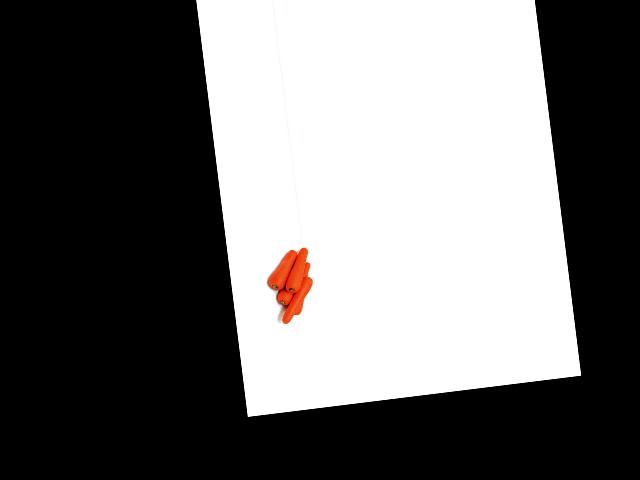carrot: (259, 247, 302, 297)
